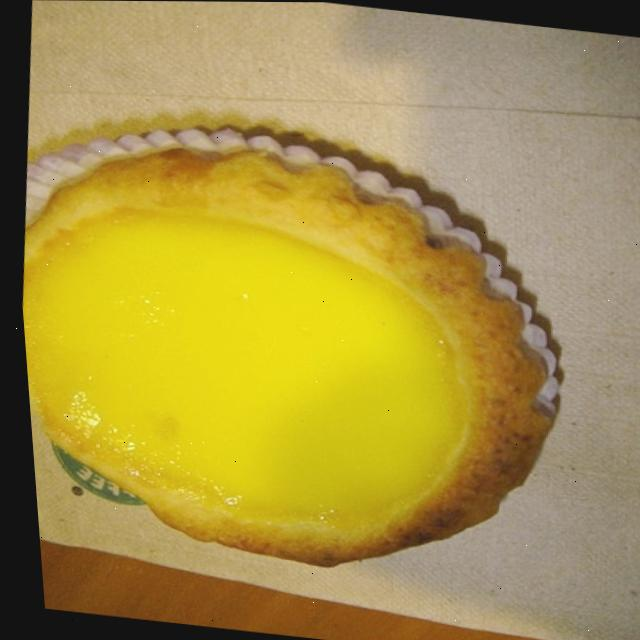炸货点心: (6, 102, 595, 601)
蛋糕甜品: (6, 102, 595, 601)
